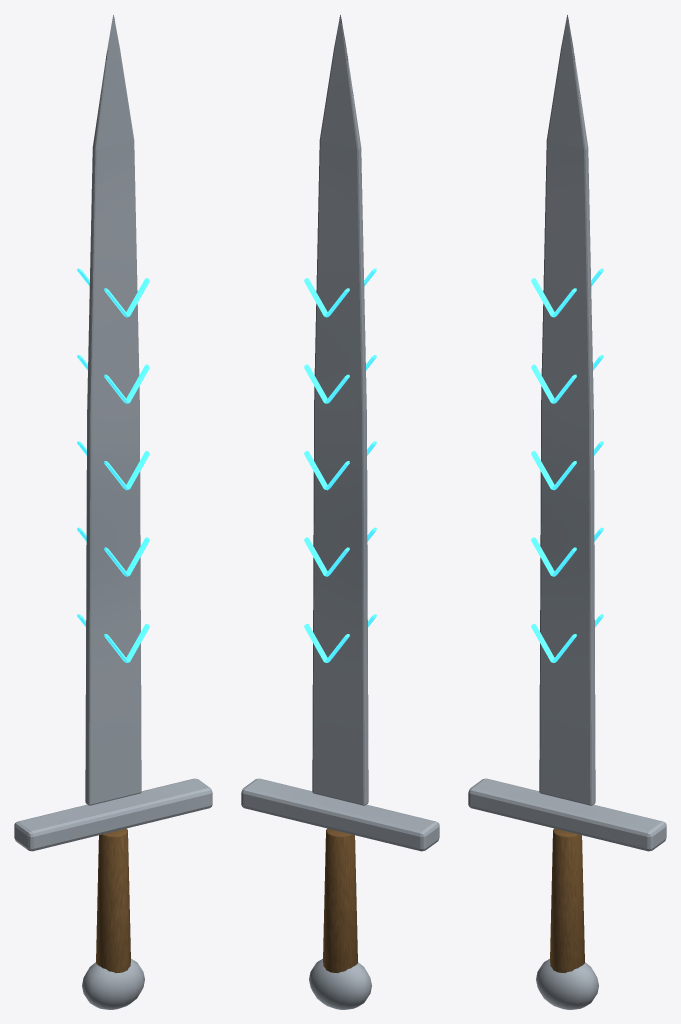
The model's file is frost_edge.glb.
The picture shows the model from 3 angles, left to right: view 1: azimuth 30°, elevation 25°; view 2: azimuth 150°, elevation 25°; view 3: azimuth 330°, elevation 25°; orthographic projection.
Visible parts, largest first — view 1: FrostEdge_Mesh; view 2: FrostEdge_Mesh; view 3: FrostEdge_Mesh.
Part boxes in pixels (left/top/right/bottom): FrostEdge_Mesh: left=14, top=15, right=212, bottom=1009; FrostEdge_Mesh: left=241, top=15, right=439, bottom=1009; FrostEdge_Mesh: left=468, top=15, right=666, bottom=1009.
Size of the model in its own units: 0.19 by 0.9773 by 0.055.
1 material, 1 textured.
